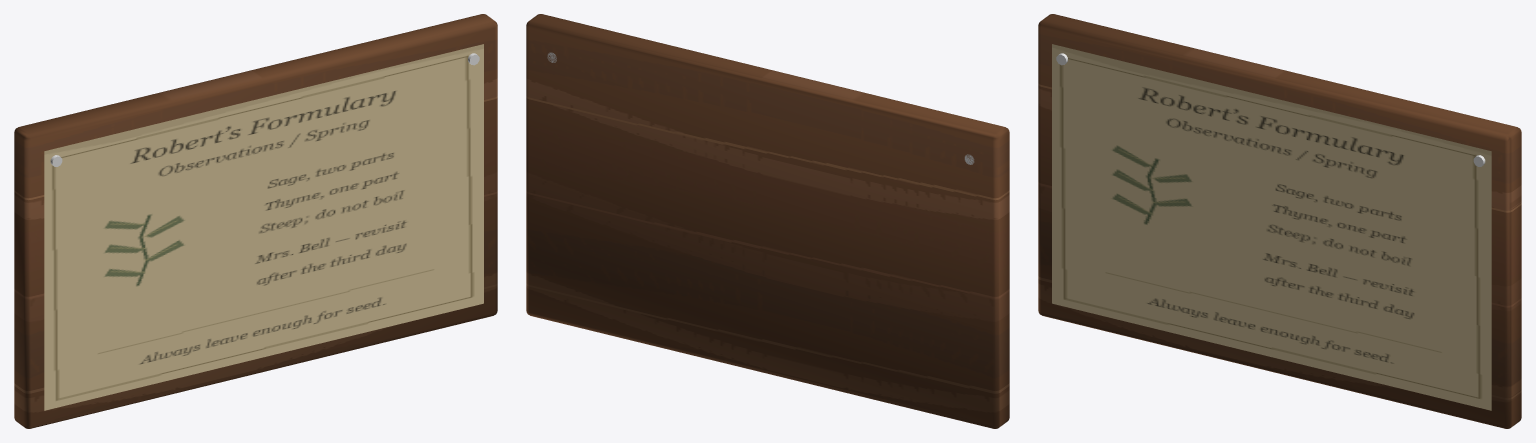
Rendered from CM_LI03_FormularyBoard.fbx.
The picture shows the model from 3 angles, left to right: view 1: azimuth 30°, elevation 25°; view 2: azimuth 150°, elevation 25°; view 3: azimuth 330°, elevation 25°; orthographic projection.
Parts seen in each view (by area): view 1: CM_LI03_FormularyBoard; view 2: CM_LI03_FormularyBoard; view 3: CM_LI03_FormularyBoard.
Part boxes in pixels (left/top/right/bottom): CM_LI03_FormularyBoard: left=14, top=14, right=497, bottom=428; CM_LI03_FormularyBoard: left=526, top=14, right=1009, bottom=428; CM_LI03_FormularyBoard: left=1038, top=14, right=1521, bottom=428.
Bounding box in the file's own units: 0.84 × 0.5 × 0.053.
